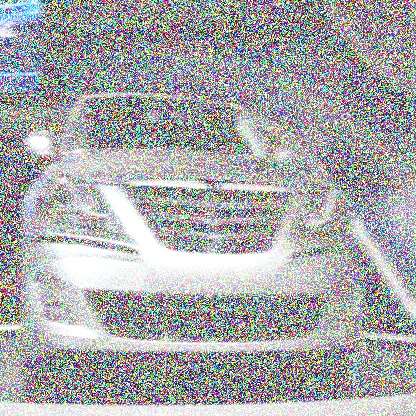Vehicle: (21, 92, 362, 393)
